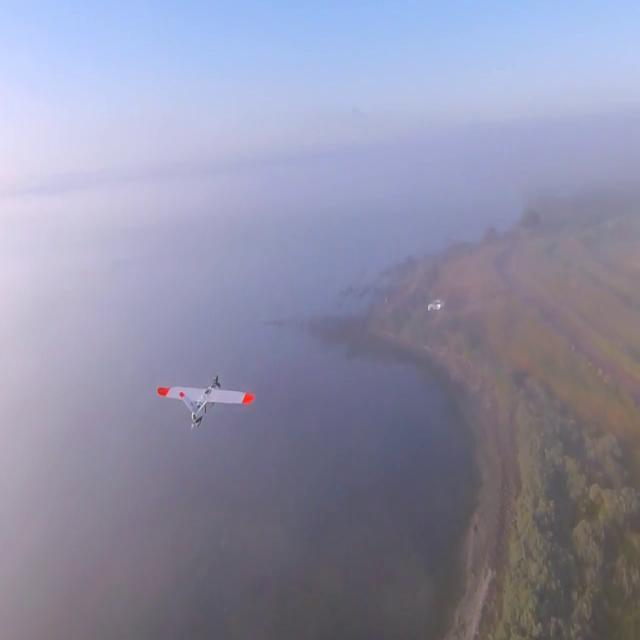iha: (186, 374, 224, 429)
